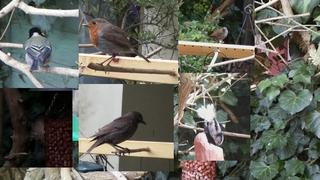dunnock: (204, 27, 228, 44)
great tit: (24, 27, 52, 74)
long tailed tit: (208, 100, 224, 146)
mouse: (30, 115, 46, 145)
robin: (82, 18, 152, 75)
starling: (86, 111, 147, 157)
